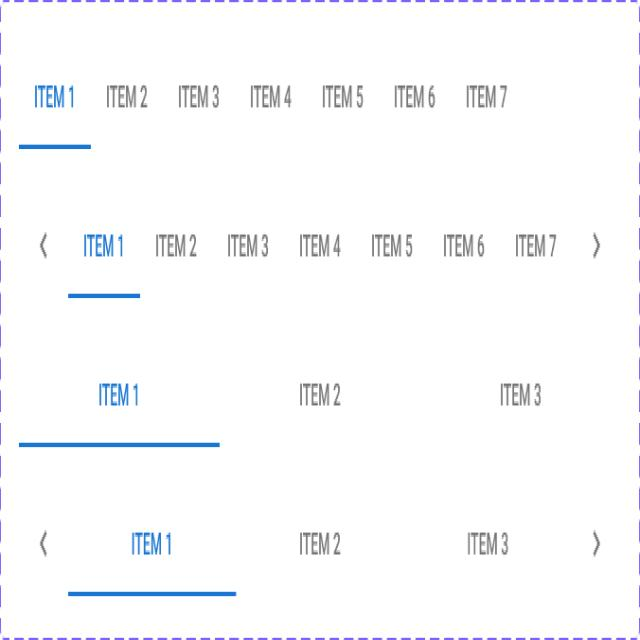VTabs: (15, 204, 606, 305), (33, 504, 609, 603), (16, 358, 595, 454), (14, 65, 528, 154)
